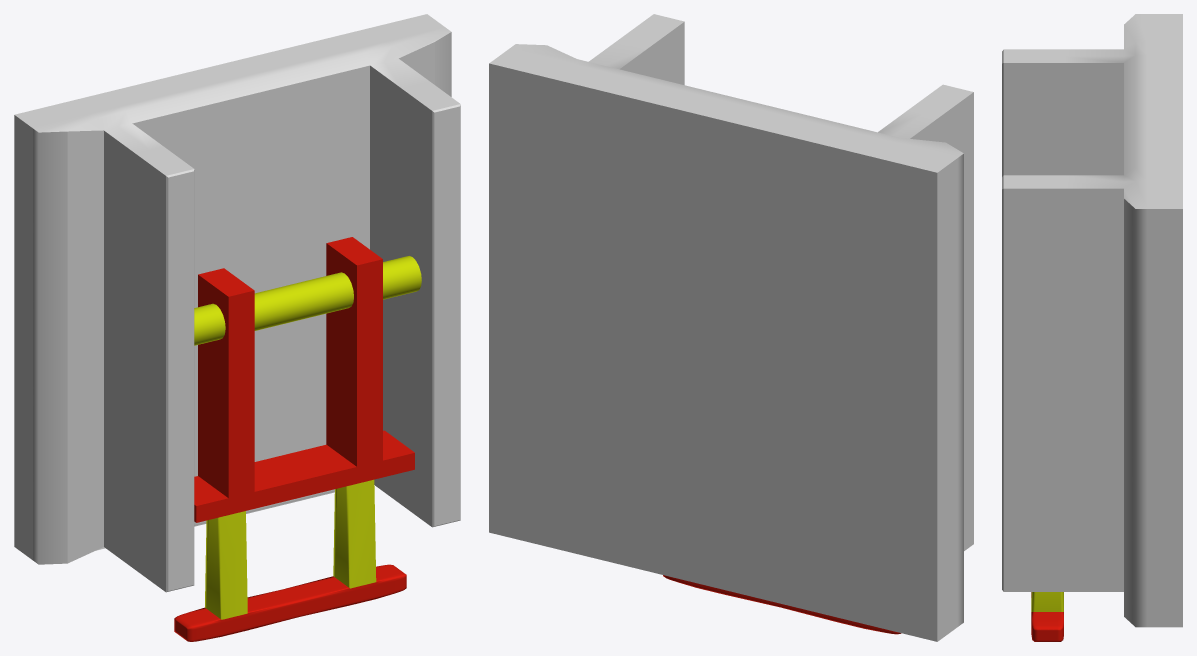
Rendered from Breaker.fbx.
3 views of the same model, side by side, from view 1: azimuth 30°, elevation 25°; view 2: azimuth 150°, elevation 25°; view 3: azimuth 270°, elevation 25° (orthographic). The views are drawn at different scales.
Parts seen in each view (by area): view 1: Board, Switch; view 2: Board, Switch; view 3: Board, Switch.
Boxes of the visible parts, x1,y1,x2,y2 form: Board: [14, 14, 460, 592]; Switch: [174, 237, 421, 641]; Board: [489, 14, 973, 641]; Switch: [663, 575, 901, 634]; Board: [1002, 14, 1182, 627]; Switch: [1031, 592, 1063, 641].
Bounding box in the file's own units: 1 × 1.15 × 0.3918.
